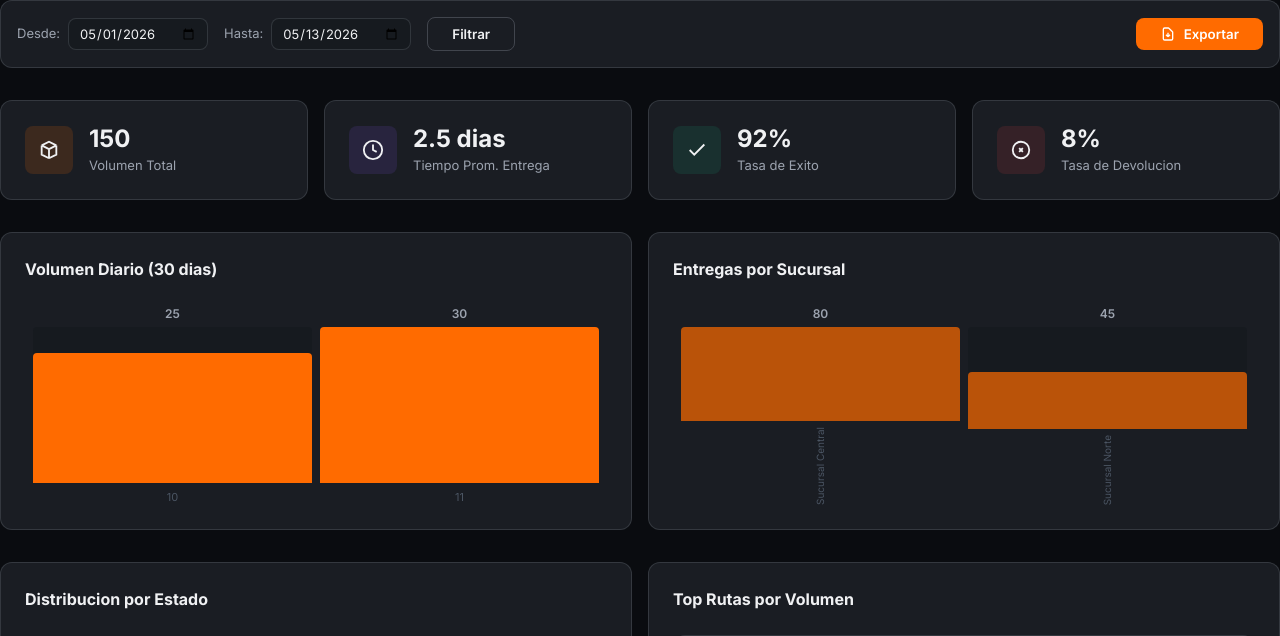
Test: Reports › muestra error si falla la exportacion
Expected: the text "Volumen Total" is shown, [89,156,176,175]
What coordinates should you click on to do the following:
click the button "Exportar"
I would click on:
 (1199, 34)
Its box is [1136,18,1263,50].
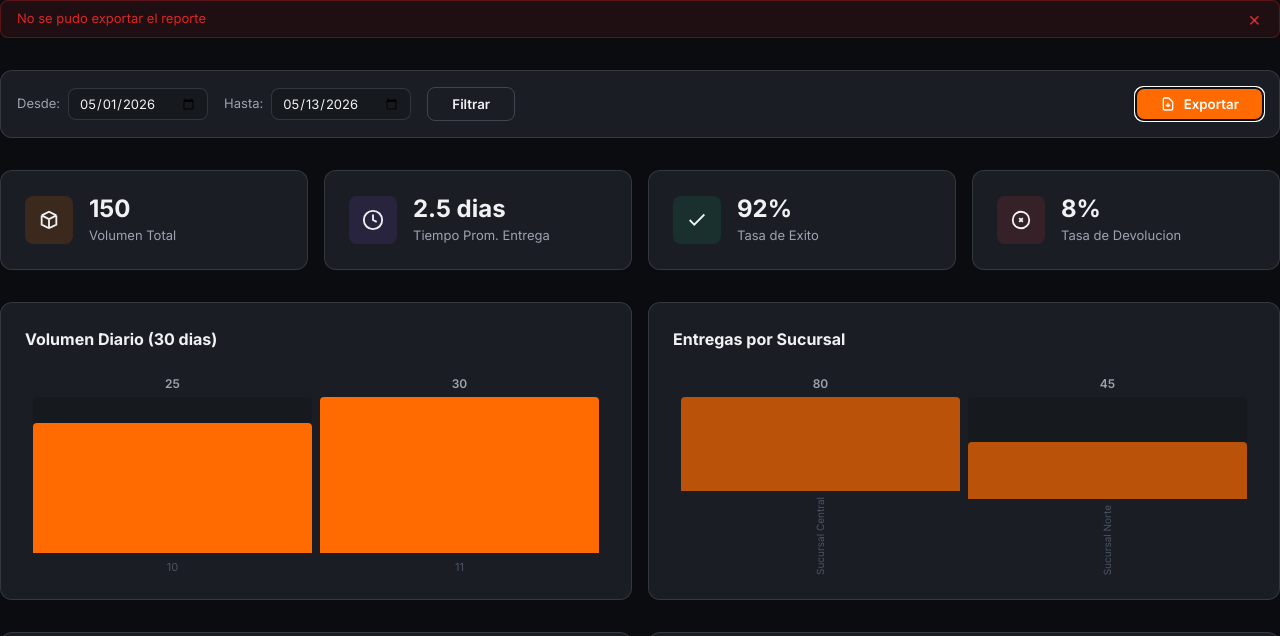
Now the text "No se pudo exportar el reporte" is shown, box [17,9,206,29]
